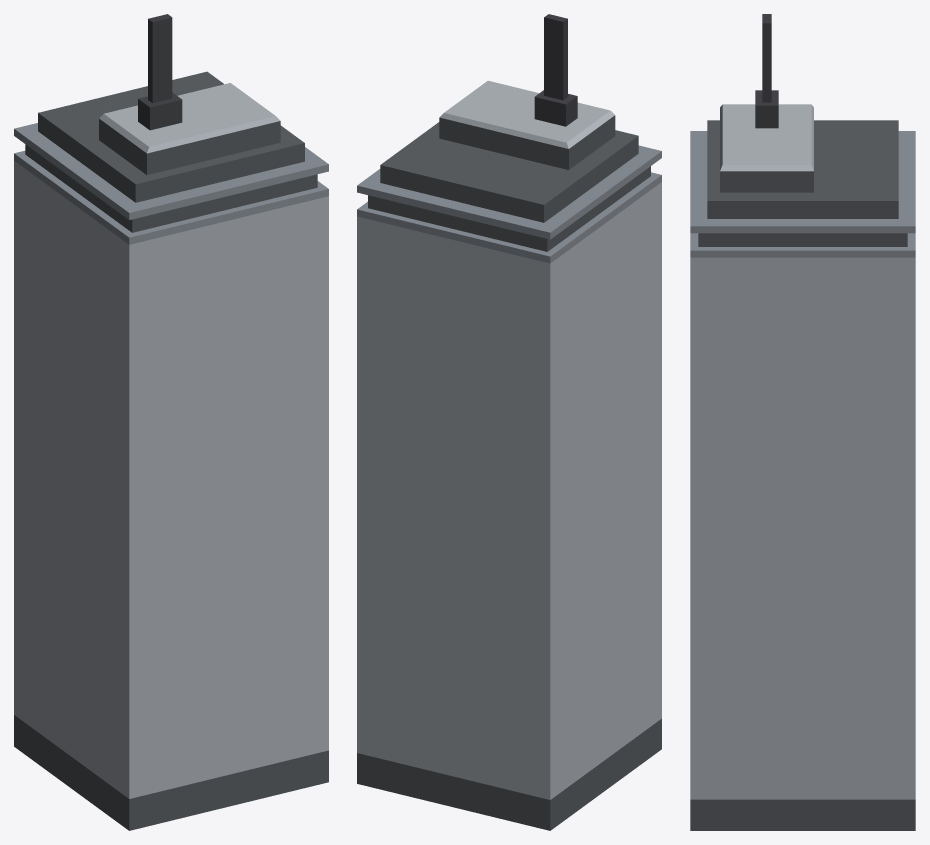
The model's file is talo12.fbx.
3 views of the same model, side by side, from view 1: azimuth 30°, elevation 25°; view 2: azimuth 150°, elevation 25°; view 3: azimuth 270°, elevation 25° (orthographic). The views are drawn at different scales.
Parts seen in each view (by area): view 1: talo12; view 2: talo12; view 3: talo12.
Boxes of the visible parts, <box> form: talo12: <box>14,14,328,830</box>; talo12: <box>357,14,661,830</box>; talo12: <box>690,14,915,830</box>.
Bounding box in the file's own units: 136 × 501 × 136.
